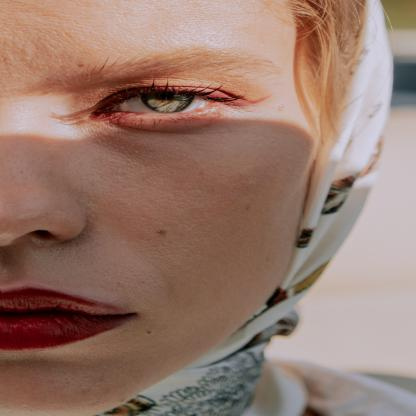Eye: (88, 74, 262, 136)
Mouth: (0, 282, 139, 358)
Nose: (0, 110, 89, 255)
